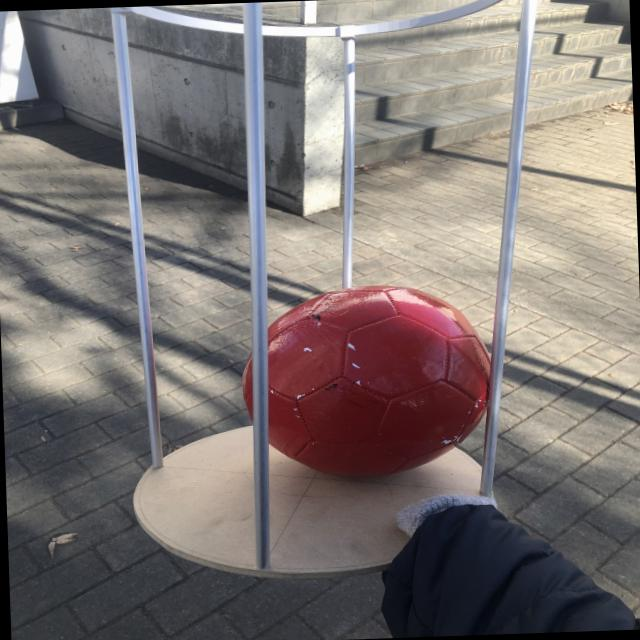red_ball: (240, 276, 495, 476)
